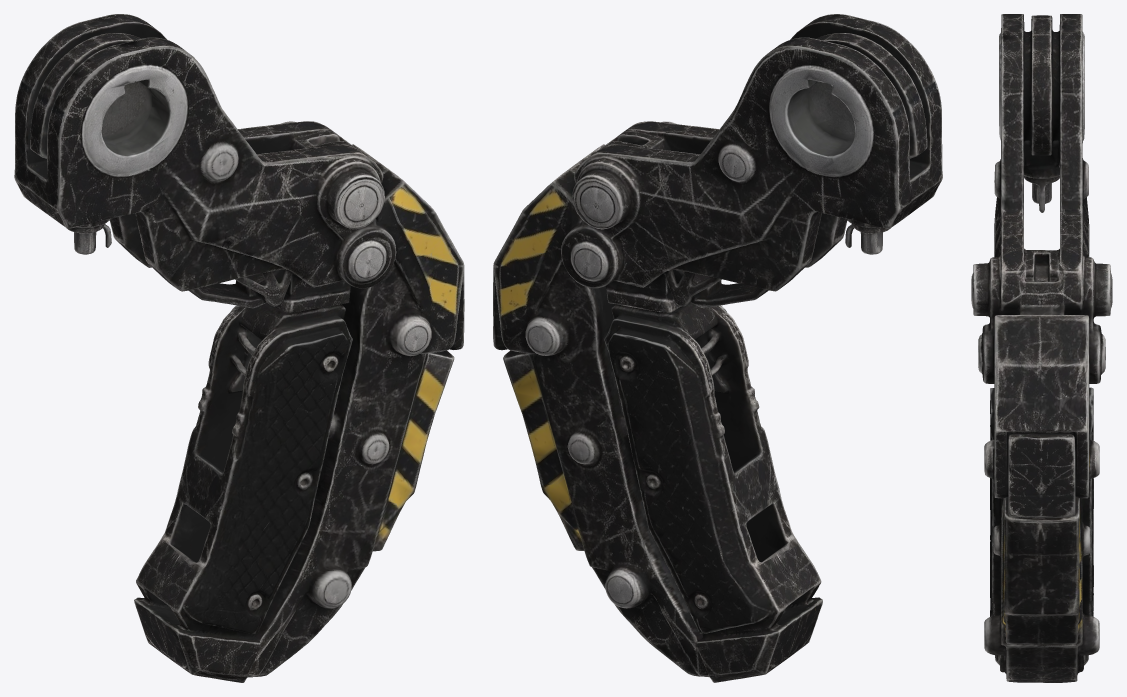
Rendered from dedo.glb.
3 renders of one model, left to right at view 1: azimuth 30°, elevation 25°; view 2: azimuth 150°, elevation 25°; view 3: azimuth 270°, elevation 25°, orthographic. The views are drawn at different scales.
Size of the model in its own units: 1.24 by 1.9 by 0.4064.
Materials: 1 (1 with a texture image).
